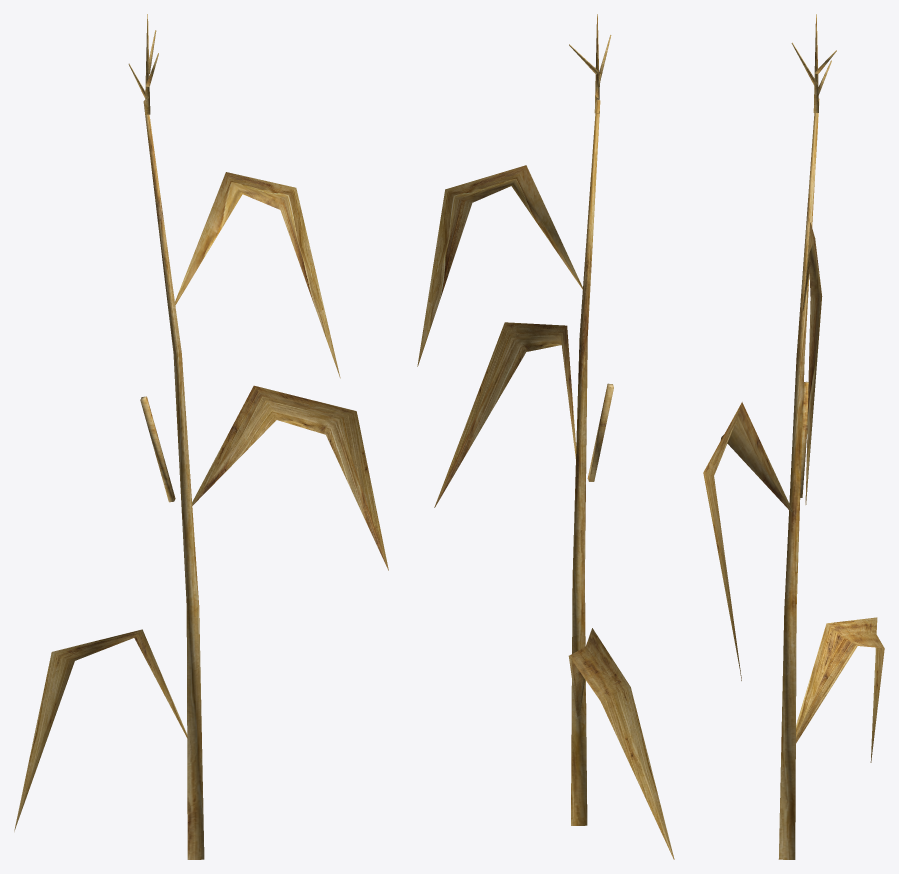
File: Corn_C_Far.fbx
3 renders of one model, left to right at view 1: azimuth 30°, elevation 25°; view 2: azimuth 150°, elevation 25°; view 3: azimuth 270°, elevation 25°, orthographic.
Parts seen in each view (by area): view 1: Corn_C_Far; view 2: Corn_C_Far; view 3: Corn_C_Far.
Part boxes in pixels (x1,y1,x2,y2): Corn_C_Far: (14,14,388,859); Corn_C_Far: (417,14,674,859); Corn_C_Far: (703,14,884,859).
Size of the model in its own units: 3.08 by 8 by 1.59.
Materials: 1 (1 with a texture image).
